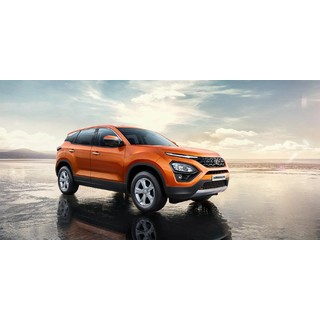car: (55, 126, 232, 215)
